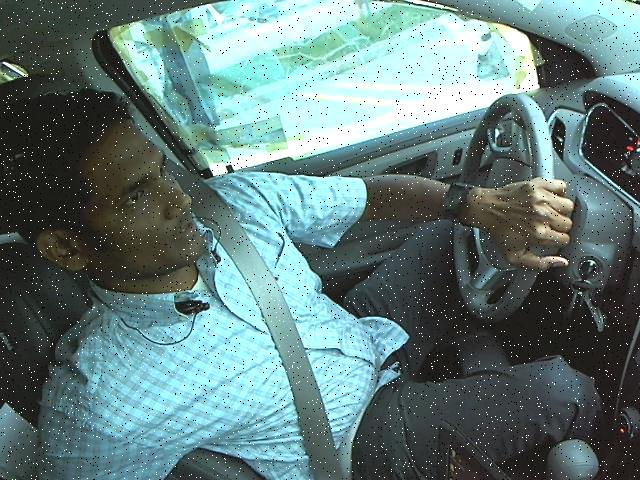c5 - Reaching Behind: (12, 72, 576, 420)
